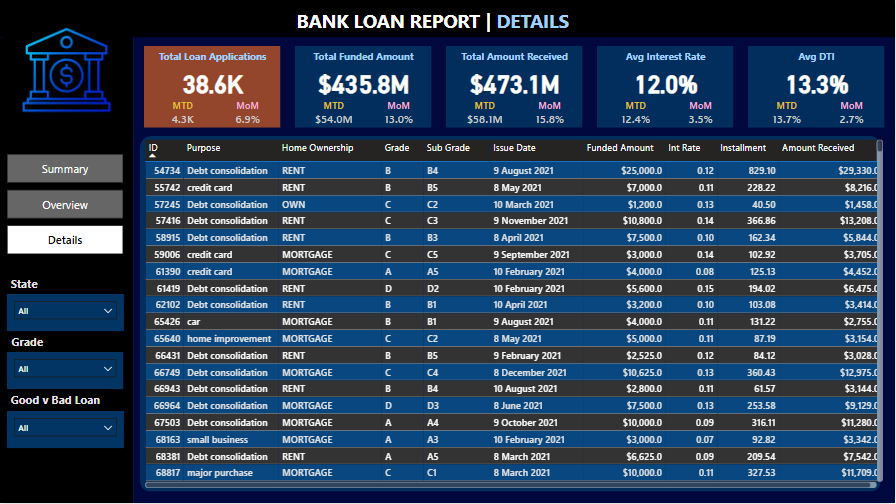

Layout of this report page (visuals, bound fields, positions):
{"tool":"powerbi","page":{"name":"Details","canvas":[1280,720],"ordinal":2},"visuals":[{"type":"shape","box":[206.7,66.7,195,116.7],"z":0,"group":"g1"},{"type":"shape","box":[422.5,66.7,195,116.7],"z":0,"group":"g2"},{"type":"shape","box":[638.3,66.7,195,116.7],"z":0,"group":"g3"},{"type":"shape","box":[854.2,66.7,195,116.7],"z":0,"group":"g4"},{"type":"shape","box":[1070,66.7,195,116.7],"z":0,"group":"g5"},{"type":"shape","box":[201.7,195,1058.3,508.3],"z":0},{"type":"textbox","box":[6.7,474.6,66.7,31.7],"z":0,"group":"g6"},{"type":"shape","box":[0,0,1280,55],"z":1000},{"type":"card","fields":{"Values":["bank_loan_data.Total Loan Applications"]},"box":[211.7,91.7,185,53.3],"z":1000,"group":"g1"},{"type":"card","fields":{"Values":["bank_loan_data.Total Funded Amount"]},"box":[427.5,91.7,185,53.3],"z":1000,"group":"g2"},{"type":"card","fields":{"Values":["bank_loan_data.Total Amount Received"]},"box":[643.3,91.7,185,53.3],"z":1000,"group":"g3"},{"type":"card","fields":{"Values":["bank_loan_data.Avg Interest Rate"]},"box":[859.2,91.7,185,53.3],"z":1000,"group":"g4"},{"type":"card","fields":{"Values":["bank_loan_data.Avg DTI"]},"box":[1075,91.7,185,53.3],"z":1000,"group":"g5"},{"type":"slicer","fields":{"Values":["bank_loan_data.grade"]},"box":[11.6,505.3,166.3,53.5],"z":1000,"group":"g6"},{"type":"shape","box":[0,55,191.7,665],"z":2000},{"type":"textbox","box":[220,66.7,170,38.3],"z":2000,"group":"g1"},{"type":"textbox","box":[435.8,66.7,170,38.3],"z":2000,"group":"g2"},{"type":"textbox","box":[651.6,66.7,170,38.3],"z":2000,"group":"g3"},{"type":"textbox","box":[867.5,66.7,170,38.3],"z":2000,"group":"g4"},{"type":"textbox","box":[1083.3,66.7,170,38.3],"z":2000,"group":"g5"},{"type":"textbox","box":[0,391.7,71.7,31.7],"z":2000,"group":"g6"},{"type":"textbox","box":[420,6.7,440,48.3],"z":3000},{"type":"card","title":"MTD","fields":{"Values":["bank_loan_data.MTD Loan Applications"]},"box":[220,141.7,85,45],"z":3000,"group":"g1"},{"type":"card","title":"MTD","fields":{"Values":["bank_loan_data.MTD Funded Applications"]},"box":[435.8,141.7,85,45],"z":3000,"group":"g2"},{"type":"card","title":"MTD","fields":{"Values":["bank_loan_data.MTD Total Amount Received"]},"box":[651.6,141.7,85,45],"z":3000,"group":"g3"},{"type":"card","title":"MTD","fields":{"Values":["bank_loan_data.MTD Avg Interest Rate"]},"box":[867.5,141.7,85,45],"z":3000,"group":"g4"},{"type":"card","title":"MTD","fields":{"Values":["bank_loan_data.MTD Avg DTI"]},"box":[1083.3,141.7,85,45],"z":3000,"group":"g5"},{"type":"slicer","fields":{"Values":["bank_loan_data.Good vs Bad Loans"]},"box":[11.7,588.4,166.7,53.3],"z":3000,"group":"g6"},{"type":"group","id":"g1","title":"Group 1","box":[206.7,66.7,195,120],"z":4000},{"type":"card","title":"MoM","fields":{"Values":["bank_loan_data.MoM Loan Applications"]},"box":[311.7,141.7,85,45],"z":4000,"group":"g1"},{"type":"card","title":"MoM","fields":{"Values":["bank_loan_data.MoM Total Funded Amount"]},"box":[527.5,141.7,85,45],"z":4000,"group":"g2"},{"type":"card","title":"MoM","fields":{"Values":["bank_loan_data.MoM Total Amount Received"]},"box":[743.3,141.7,85,45],"z":4000,"group":"g3"},{"type":"card","title":"MoM","fields":{"Values":["bank_loan_data.MoM Avg Interest Rate"]},"box":[959.2,141.7,85,45],"z":4000,"group":"g4"},{"type":"card","title":"MoM","fields":{"Values":["bank_loan_data.MoM Avg DTI"]},"box":[1175,141.7,85,45],"z":4000,"group":"g5"},{"type":"textbox","box":[11.7,557.7,138.3,31.7],"z":4000,"group":"g6"},{"type":"group","id":"g2","title":"Group 1","box":[422.5,66.7,195,120],"z":5000},{"type":"slicer","fields":{"Values":["bank_loan_data.address_state"]},"box":[11.7,422.3,166.7,53.3],"z":5000,"group":"g6"},{"type":"group","id":"g3","title":"Group 1","box":[638.3,66.7,195,120],"z":6000},{"type":"group","id":"g4","title":"Group 1","box":[854.2,66.7,195,120],"z":7000},{"type":"group","id":"g5","title":"Group 1","box":[1070,66.7,195,120],"z":8000},{"type":"tableEx","fields":{"Values":["bank_loan_data.id","bank_loan_data.purpose","bank_loan_data.home_ownership","bank_loan_data.grade","bank_loan_data.sub_grade","bank_loan_data.issue_date","bank_loan_data.Total Funded Amount","Sum(bank_loan_data.int_rate)","Sum(bank_loan_data.installment)","bank_loan_data.Total Amount Received"]},"box":[203.3,195,1065,508.3],"z":9000},{"type":"group","id":"g6","title":"Group 2","box":[0,391.7,178.3,250],"z":10000},{"type":"image","box":[0,7.2,192.3,190.8],"z":12000},{"type":"pageNavigator","box":[11.7,221.7,166.7,145],"z":12001}]}

Visuals, with their boxes in screenshot pixels (x1, y1, x2, y2), scaled from the page's 1280x720 canvas onto the 896x504 screenshot:
shape: crop(145, 47, 281, 128)
shape: crop(296, 47, 432, 128)
shape: crop(447, 47, 583, 128)
shape: crop(598, 47, 734, 128)
shape: crop(749, 47, 886, 128)
shape: crop(141, 136, 882, 492)
textbox: crop(5, 332, 51, 354)
shape: crop(0, 0, 895, 38)
card - bank_loan_data.Total Loan Applications: crop(148, 64, 278, 102)
card - bank_loan_data.Total Funded Amount: crop(299, 64, 429, 102)
card - bank_loan_data.Total Amount Received: crop(450, 64, 580, 102)
card - bank_loan_data.Avg Interest Rate: crop(601, 64, 731, 102)
card - bank_loan_data.Avg DTI: crop(752, 64, 882, 102)
slicer - bank_loan_data.grade: crop(8, 354, 125, 391)
shape: crop(0, 38, 134, 503)
textbox: crop(154, 47, 273, 74)
textbox: crop(305, 47, 424, 74)
textbox: crop(456, 47, 575, 74)
textbox: crop(607, 47, 726, 74)
textbox: crop(758, 47, 877, 74)
textbox: crop(0, 274, 50, 296)
textbox: crop(294, 5, 602, 38)
"MTD" card: crop(154, 99, 214, 131)
"MTD" card: crop(305, 99, 365, 131)
"MTD" card: crop(456, 99, 516, 131)
"MTD" card: crop(607, 99, 667, 131)
"MTD" card: crop(758, 99, 818, 131)
slicer - bank_loan_data.Good vs Bad Loans: crop(8, 412, 125, 449)
"Group 1" group: crop(145, 47, 281, 131)
"MoM" card: crop(218, 99, 278, 131)
"MoM" card: crop(369, 99, 429, 131)
"MoM" card: crop(520, 99, 580, 131)
"MoM" card: crop(671, 99, 731, 131)
"MoM" card: crop(822, 99, 882, 131)
textbox: crop(8, 390, 105, 413)
"Group 1" group: crop(296, 47, 432, 131)
slicer - bank_loan_data.address_state: crop(8, 296, 125, 333)
"Group 1" group: crop(447, 47, 583, 131)
"Group 1" group: crop(598, 47, 734, 131)
"Group 1" group: crop(749, 47, 886, 131)
tableEx - bank_loan_data.id x bank_loan_data.purpose: crop(142, 136, 888, 492)
"Group 2" group: crop(0, 274, 125, 449)
image: crop(0, 5, 135, 139)
pageNavigator: crop(8, 155, 125, 257)
